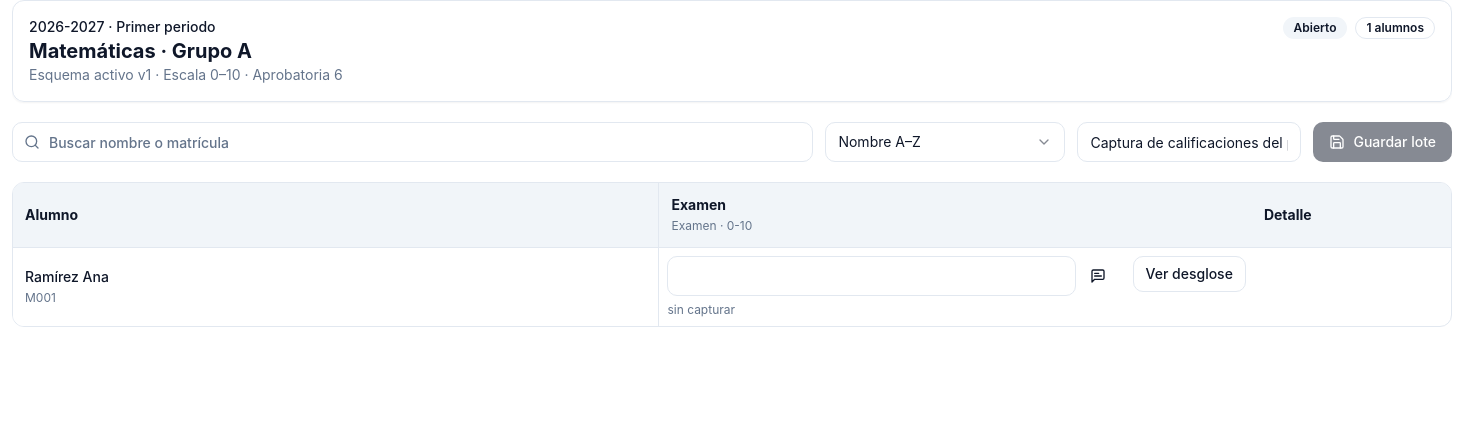
it: Paso 11: editor accesible y explícito › reconcilia un timeout confirmado sin reenviar automáticamente
Type "8" into the number field named "Ramírez Ana, Examen, calificación de 0 a 10" at (872, 276), box [668,256,1076,296]
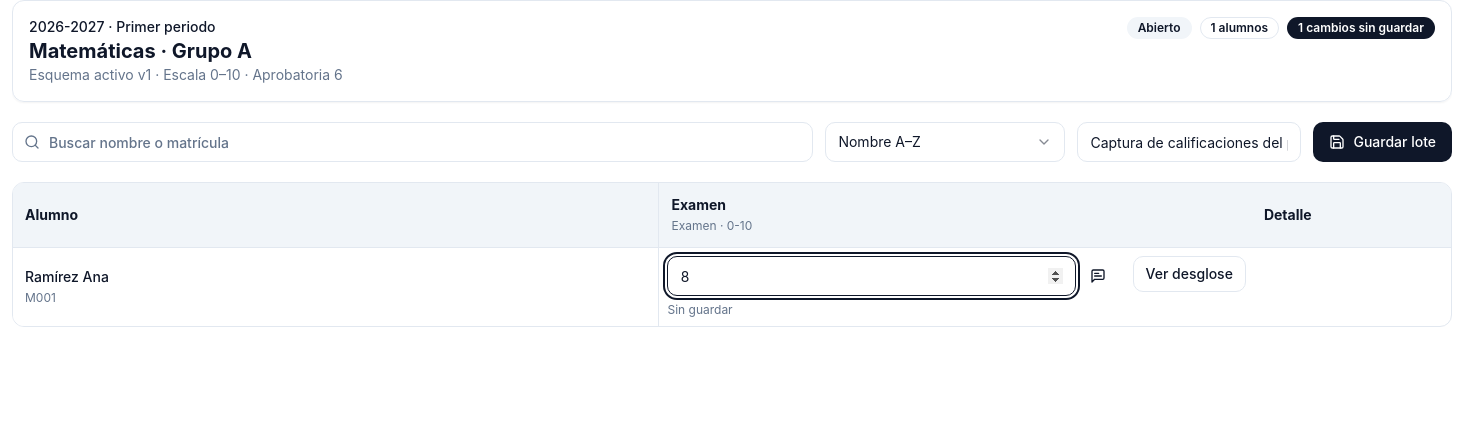
Click the button "Guardar lote" at (1383, 142), box [1313,122,1452,162]
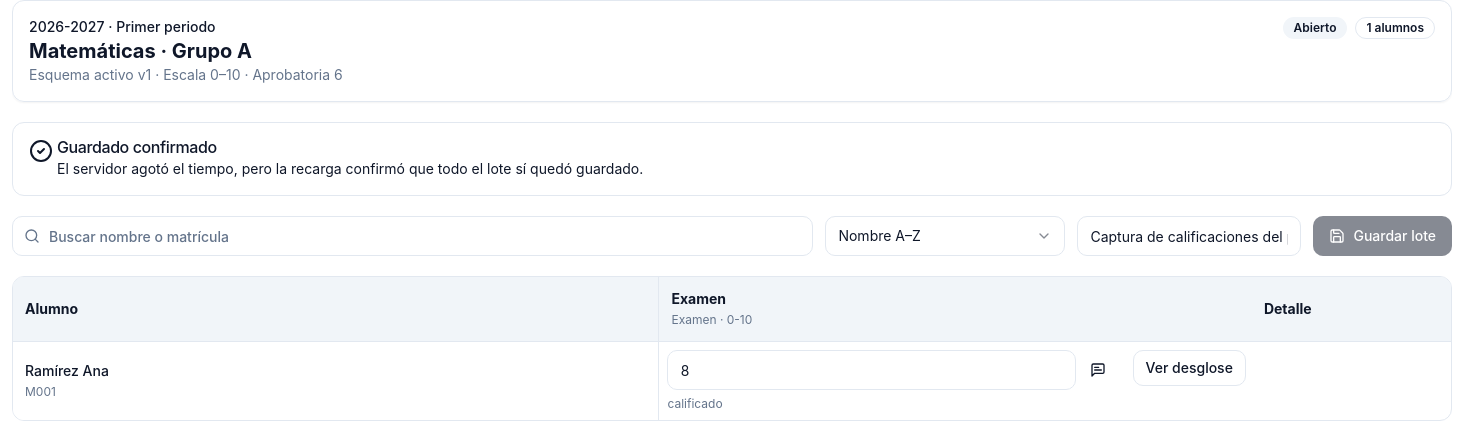
Check: the text "recarga confirmó que todo el lote sí quedó guardado" is shown, box [57,160,643,177]
